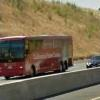buses: (1, 36, 74, 80)
